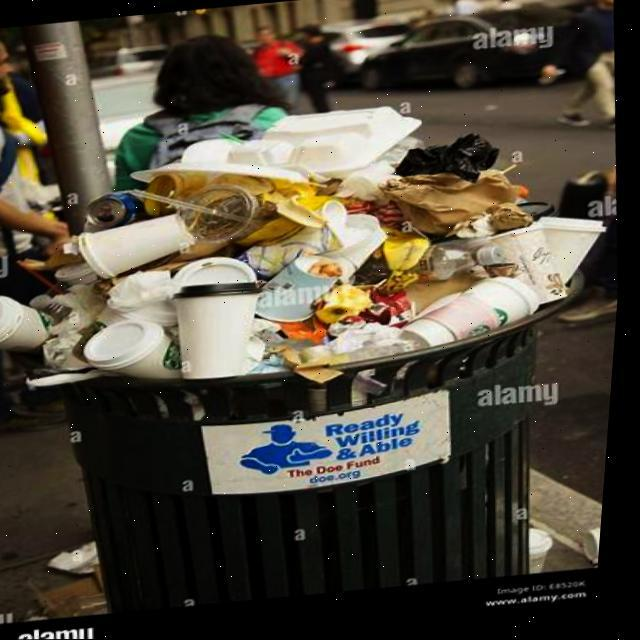Garbage: (0, 107, 608, 385)
Plastic_Bag: (397, 133, 499, 181)
